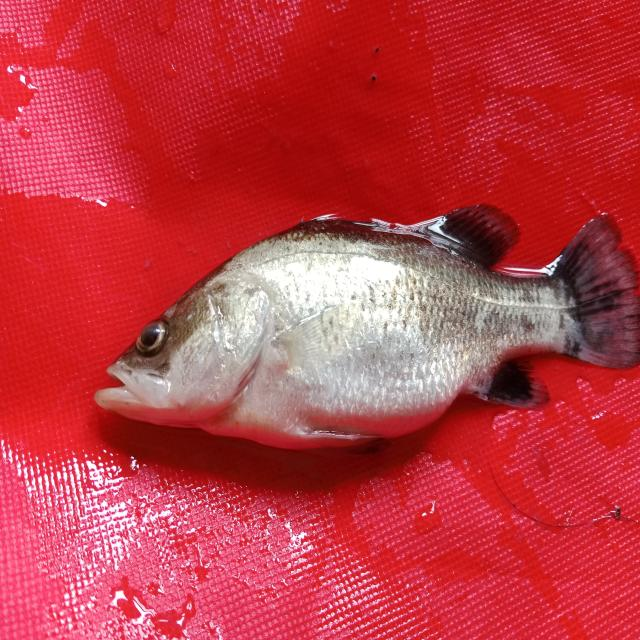ikan: (93, 202, 639, 452)
